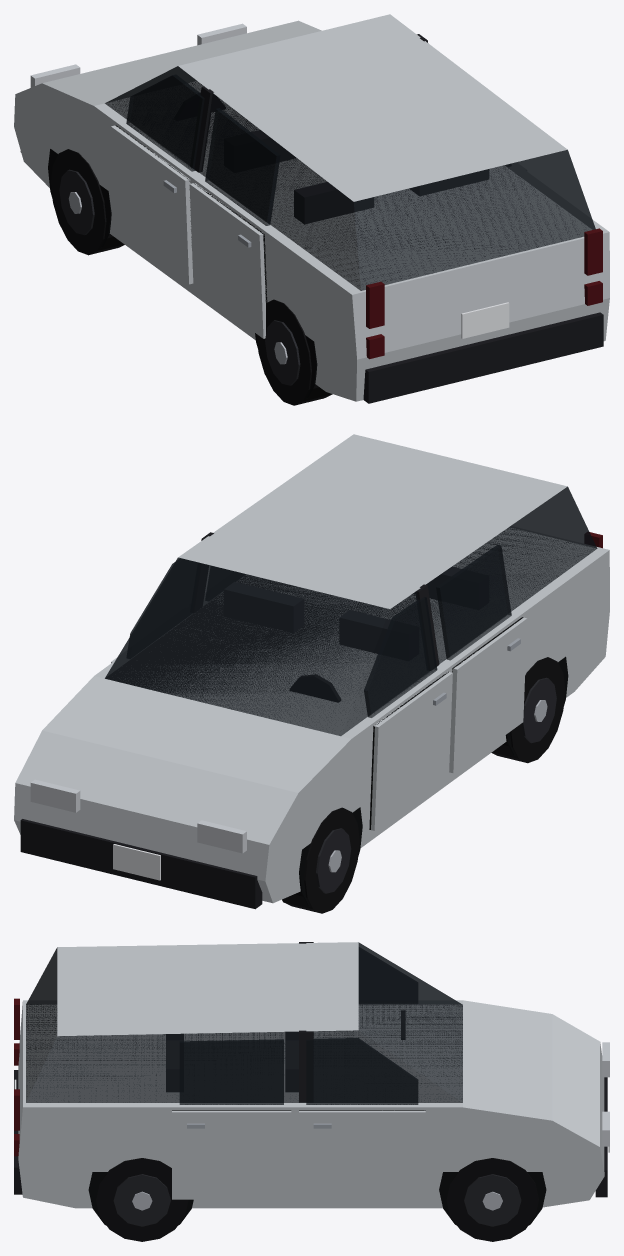
Rendered from civ_hatchback.glb.
3 renders of one model, top to bottom at view 1: azimuth 30°, elevation 25°; view 2: azimuth 150°, elevation 25°; view 3: azimuth 270°, elevation 25°, orthographic. The views are drawn at different scales.
Visible parts, largest first — view 1: Body, Door_RL, Door_FL, Wheel_FL, Wheel_RL, Interior, Plate_Rear, Taillight_R, Taillight_L, Headlight_L, Headlight_R; view 2: Body, Door_FL, Door_RL, Interior, Wheel_FL, Wheel_RL, Plate_Front, Headlight_R, Headlight_L; view 3: Body, Door_FR, Door_RR, Wheel_FR, Wheel_RR, Interior.
Boxes of the visible parts, x1,y1,x2,y2 form: Body: (14, 14, 609, 403); Door_RL: (189, 108, 280, 338); Door_FL: (111, 74, 204, 284); Wheel_FL: (51, 149, 124, 255); Wheel_RL: (256, 299, 332, 405); Interior: (211, 94, 488, 224); Plate_Rear: (461, 302, 509, 338); Taillight_R: (584, 228, 602, 275); Taillight_L: (366, 281, 384, 328); Headlight_L: (30, 64, 80, 87); Headlight_R: (197, 23, 246, 45); Body: (14, 434, 609, 909); Door_FL: (364, 597, 452, 830); Door_RL: (436, 544, 527, 773); Interior: (224, 567, 461, 702); Wheel_FL: (282, 807, 359, 913); Wheel_RL: (491, 657, 565, 763); Plate_Front: (113, 844, 160, 880); Headlight_R: (30, 779, 80, 812); Headlight_L: (197, 820, 246, 853); Body: (14, 942, 607, 1225); Door_FR: (299, 1038, 425, 1199); Door_RR: (172, 1039, 291, 1199); Wheel_FR: (446, 1158, 538, 1241); Wheel_RR: (96, 1158, 188, 1241); Interior: (166, 1010, 405, 1091).
Bounding box in the file's own units: 1.8 × 1.5 × 4.
